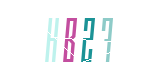2: (40, 0, 120, 80)
7: (48, 0, 128, 80)
B: (38, 0, 118, 80)
H: (30, 0, 110, 80)
